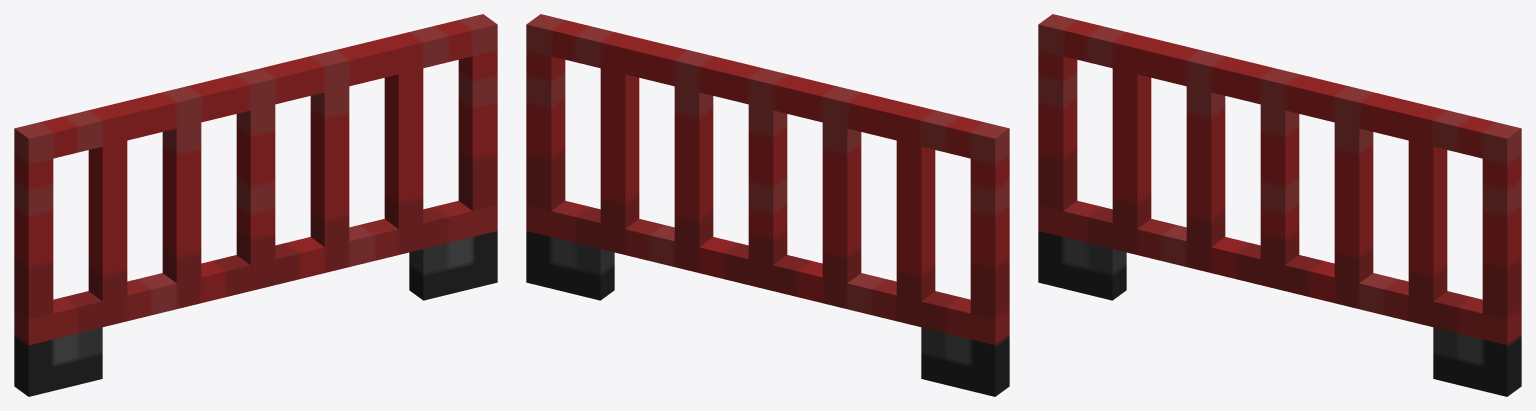
The model's file is barrierC.fbx.
3 renders of one model, left to right at view 1: azimuth 30°, elevation 25°; view 2: azimuth 150°, elevation 25°; view 3: azimuth 330°, elevation 25°, orthographic.
Parts seen in each view (by area): view 1: barrierC; view 2: barrierC; view 3: barrierC.
Boxes of the visible parts, x1,y1,x2,y2 form: barrierC: (14, 14, 497, 396); barrierC: (526, 14, 1009, 396); barrierC: (1038, 14, 1521, 396).
Size of the model in its own units: 19 by 10 by 1.
